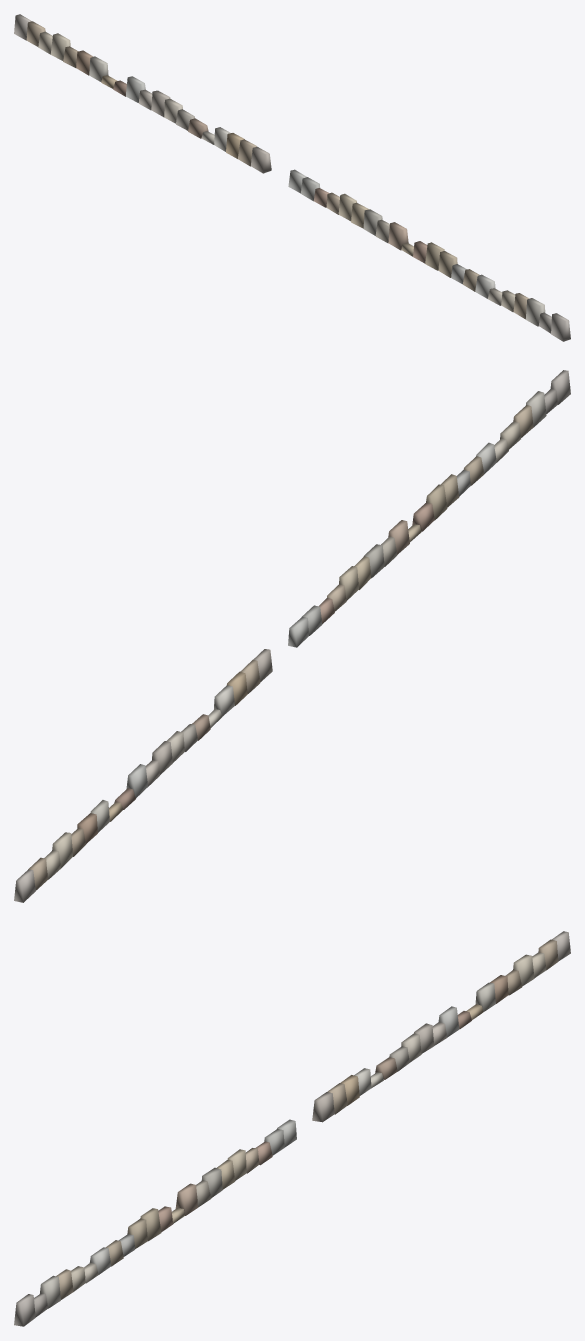
The model's file is farm_-3_9_far.glb.
3 renders of one model, top to bottom at view 1: azimuth 30°, elevation 25°; view 2: azimuth 150°, elevation 25°; view 3: azimuth 330°, elevation 25°, orthographic. The views are drawn at different scales.
Visible parts, largest first — view 1: geometry_0; view 2: geometry_0; view 3: geometry_0.
Boxes of the visible parts, x1,y1,x2,y2 form: geometry_0: [14, 14, 570, 341]; geometry_0: [14, 370, 570, 902]; geometry_0: [14, 931, 570, 1326].
Size of the model in its own units: 3.5 by 5.95 by 70.26.
